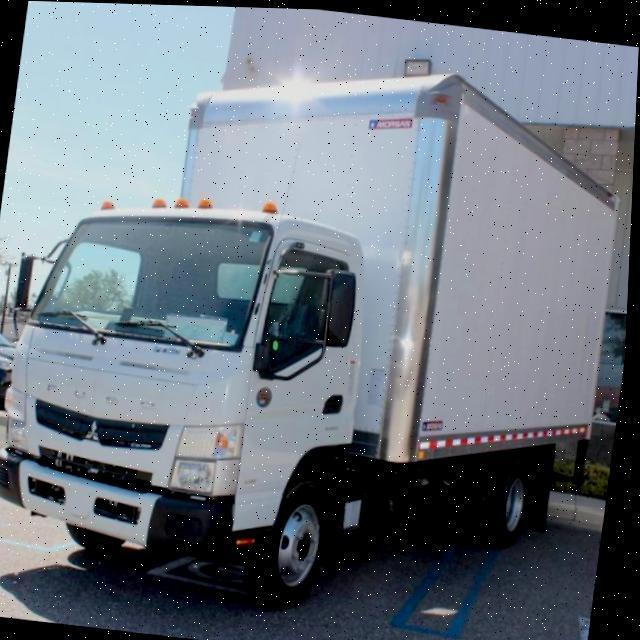truck: (0, 18, 636, 628)
